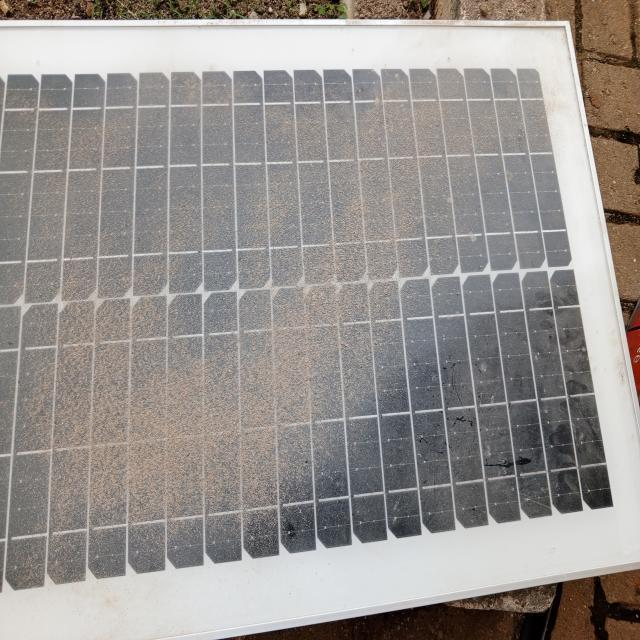Surface Contaminant: (3, 46, 566, 543)
